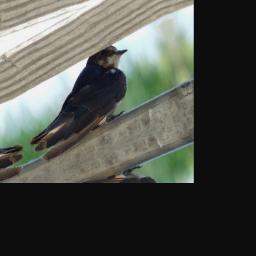Swallow: (13, 38, 149, 166)
